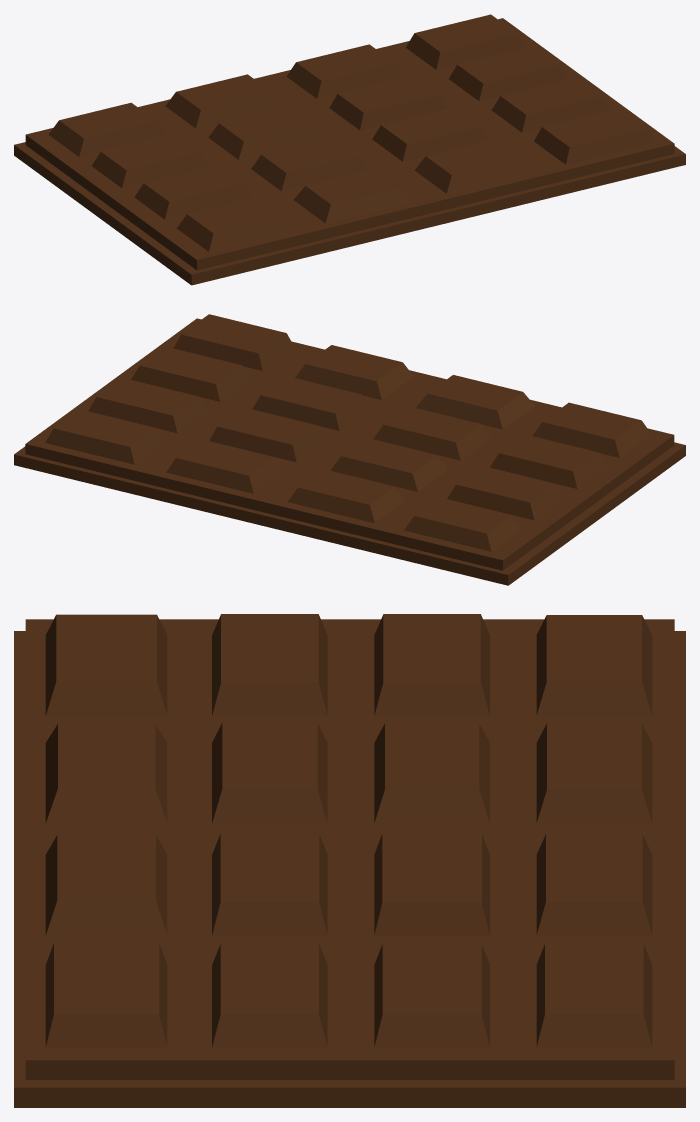
Rendered from coklat.fbx.
The picture shows the model from 3 angles, top to bottom: view 1: azimuth 30°, elevation 25°; view 2: azimuth 150°, elevation 25°; view 3: azimuth 270°, elevation 25°; orthographic projection. The views are drawn at different scales.
Visible parts, largest first — view 1: Cube; view 2: Cube; view 3: Cube.
Boxes of the visible parts, left/top/right/bottom form: Cube: left=14, top=14, right=685, bottom=285; Cube: left=14, top=314, right=685, bottom=585; Cube: left=14, top=614, right=685, bottom=1107.
Size of the model in its own units: 207 by 14.26 by 129.
